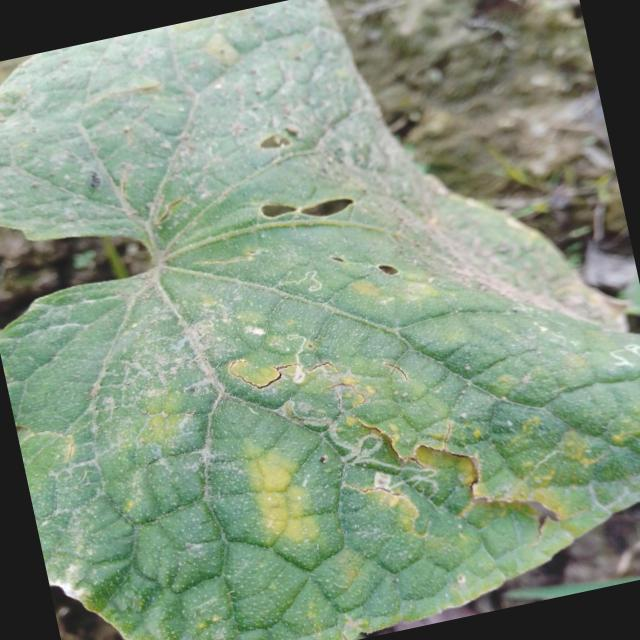cucumber_downy: (0, 0, 539, 640), (376, 223, 640, 576)
